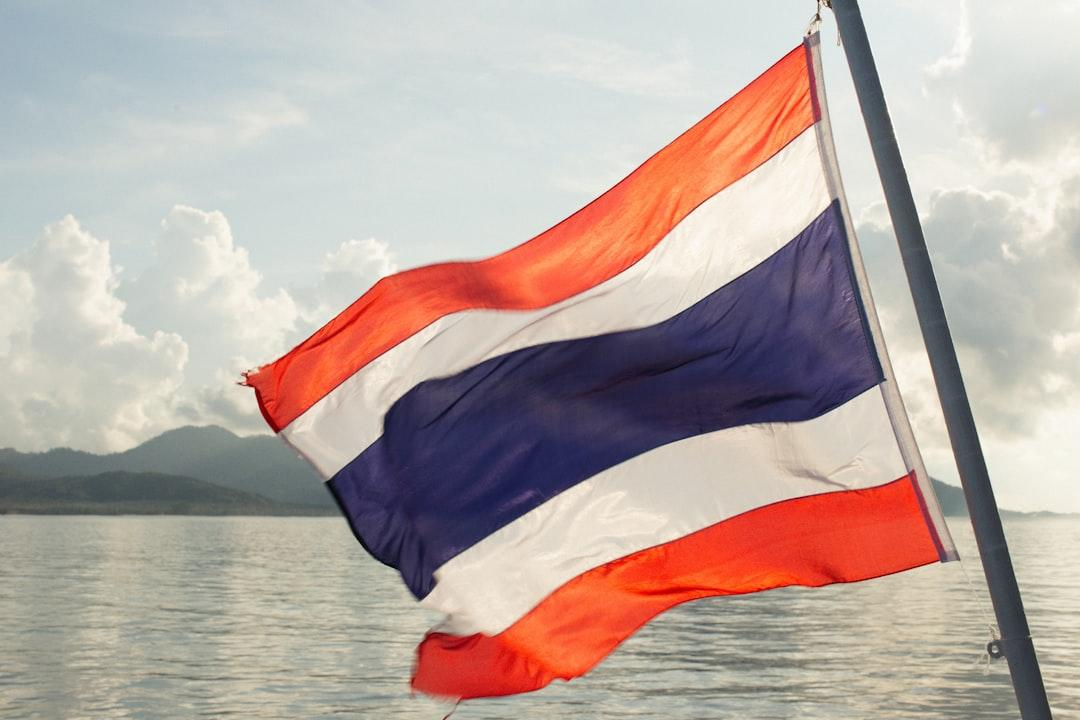Thailand: (252, 43, 950, 701)
